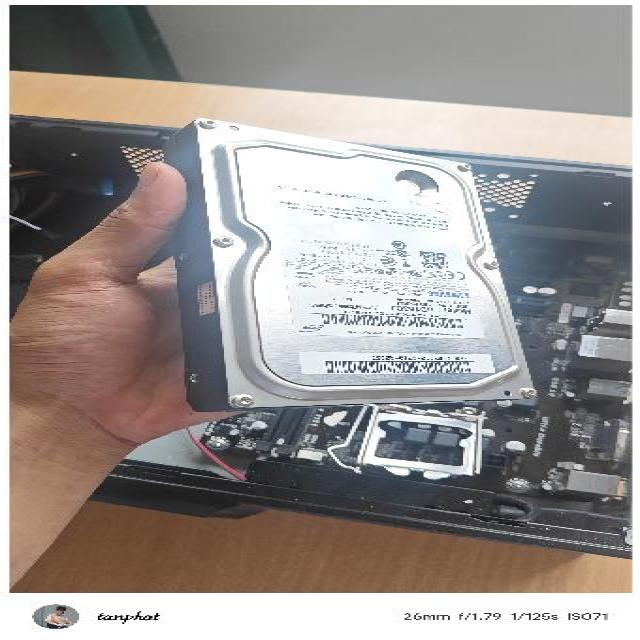DISK: (152, 110, 546, 411)
